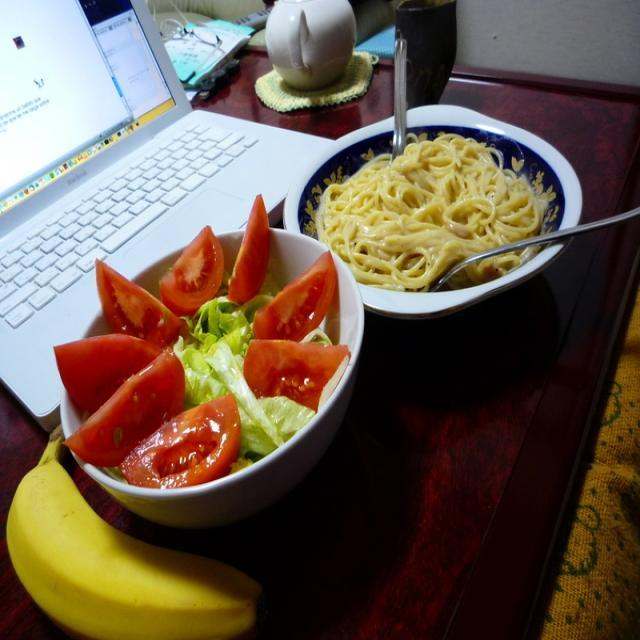Pasta: (327, 101, 535, 303)
